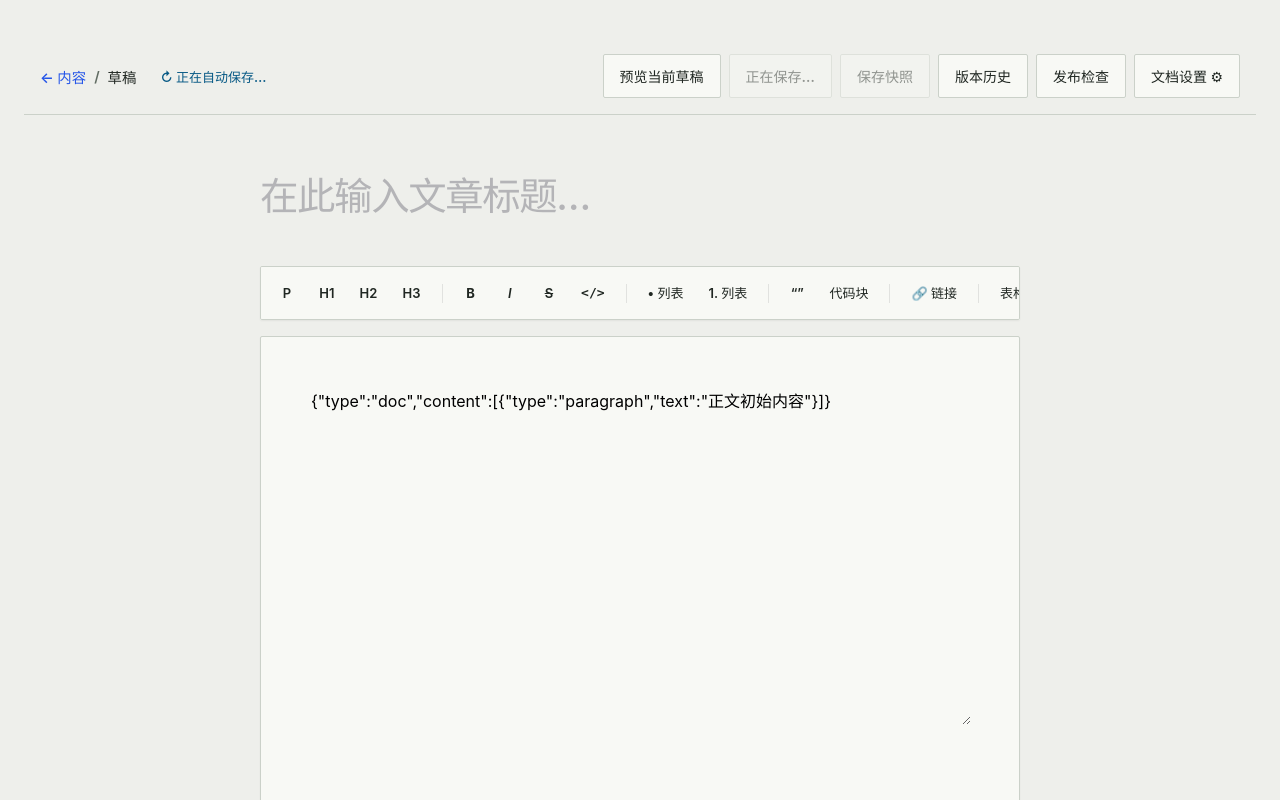
知识库体验优化 最终综合验收套件 (6大场景全覆盖) › 场景 4: 发布操作 awaitable 契约与真实状态检查 › 发布检查抽屉根据真实标题、草稿和附件状态展示检查结果
Step 1. Click the button titled "打开发布检查抽屉" → (1081, 76), box [1036,54,1126,98]
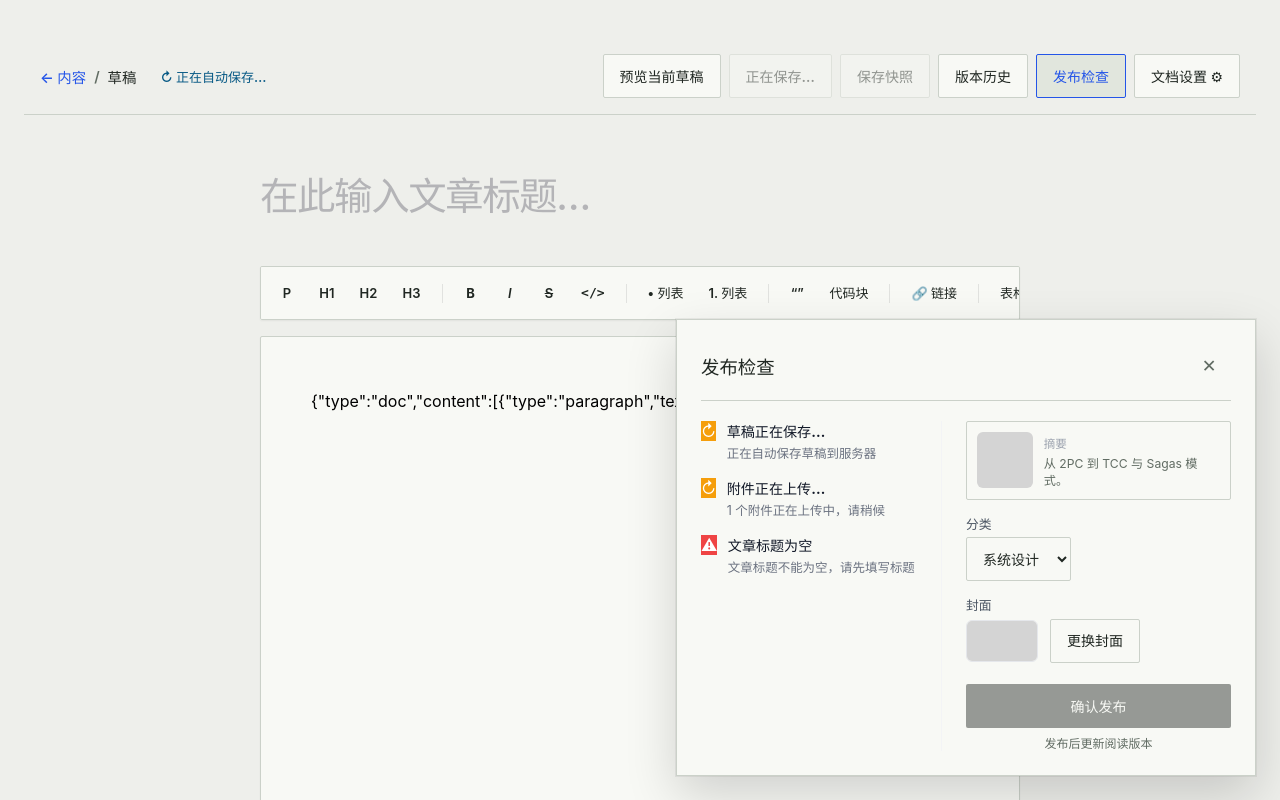
Expected: the text "草稿正在保存…" is shown, [727,423,825,440]
Expected: the text "附件正在上传…" is shown, [727,480,825,497]
Expected: the text "文章标题为空" is shown, [728,537,812,554]
